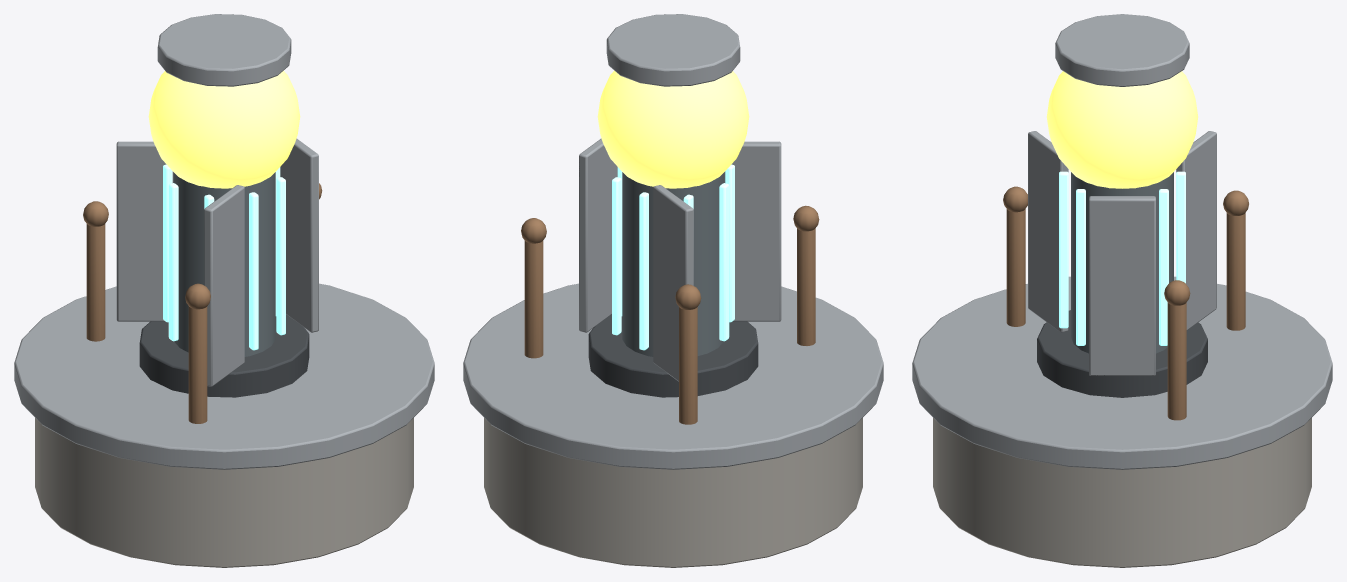
File: core_engine.glb
The picture shows the model from 3 angles, left to right: view 1: azimuth 30°, elevation 25°; view 2: azimuth 150°, elevation 25°; view 3: azimuth 270°, elevation 25°; orthographic projection.
Parts seen in each view (by area): view 1: Ring, Pedestal, Heart, Fin1, Cap, Coil, Fin2, Collar, Fin0, Pipe1, Pipe2, Strip4 (+7 smaller); view 2: Ring, Pedestal, Heart, Coil, Fin5, Cap, Collar, Fin3, Fin1, Pipe0, Pipe1, Pipe2 (+9 smaller); view 3: Ring, Pedestal, Heart, Fin0, Cap, Collar, Fin1, Fin2, Fin3, Coil, Pipe0, Pipe1 (+8 smaller).
Boxes of the visible parts, bbox=[...] form: Ring: bbox=[14, 283, 434, 469]; Pedestal: bbox=[35, 418, 413, 567]; Heart: bbox=[148, 70, 300, 188]; Fin1: bbox=[116, 141, 173, 321]; Cap: bbox=[157, 14, 291, 86]; Coil: bbox=[173, 172, 275, 356]; Fin2: bbox=[204, 185, 244, 386]; Collar: bbox=[139, 314, 309, 397]; Fin0: bbox=[280, 139, 318, 332]; Pipe1: bbox=[86, 224, 105, 341]; Pipe2: bbox=[188, 306, 207, 423]; Strip4: bbox=[168, 183, 178, 341]; Ring: bbox=[463, 283, 883, 469]; Pedestal: bbox=[484, 418, 862, 567]; Heart: bbox=[597, 70, 749, 188]; Coil: bbox=[622, 172, 724, 356]; Fin5: bbox=[724, 142, 781, 321]; Cap: bbox=[606, 14, 740, 86]; Collar: bbox=[588, 314, 758, 397]; Fin3: bbox=[579, 138, 617, 332]; Fin1: bbox=[653, 185, 693, 381]; Pipe0: bbox=[524, 241, 543, 358]; Pipe1: bbox=[679, 307, 697, 424]; Pipe2: bbox=[797, 228, 815, 345]; Ring: bbox=[912, 276, 1332, 469]; Pedestal: bbox=[933, 418, 1311, 567]; Heart: bbox=[1046, 71, 1198, 188]; Fin0: bbox=[1089, 196, 1155, 375]; Cap: bbox=[1055, 14, 1189, 86]; Collar: bbox=[1037, 310, 1207, 397]; Fin1: bbox=[1176, 131, 1216, 329]; Fin2: bbox=[1028, 132, 1068, 332]; Fin3: bbox=[1090, 196, 1155, 375]; Coil: bbox=[1071, 172, 1173, 353]; Pipe0: bbox=[1167, 302, 1186, 420]; Pipe1: bbox=[1226, 213, 1245, 330].
Bounding box in the file's own units: 3.44 × 4.04 × 3.44.
